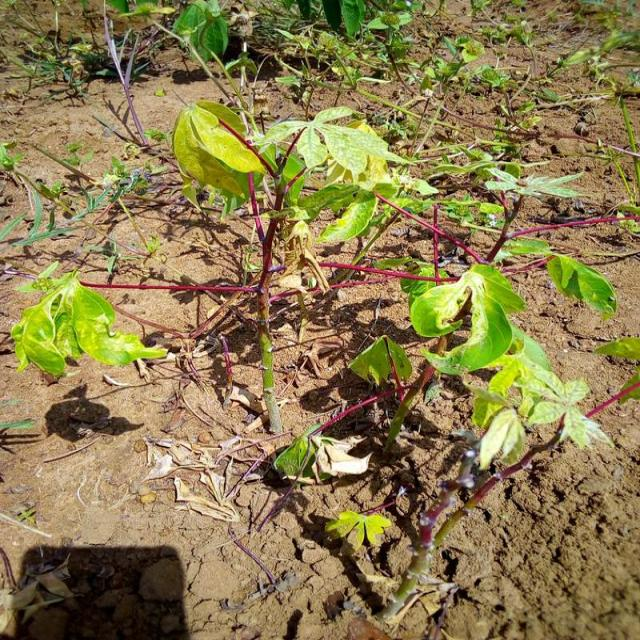cassava leaf: (10, 266, 168, 376), (409, 260, 525, 376), (172, 98, 266, 215), (347, 333, 412, 387)
